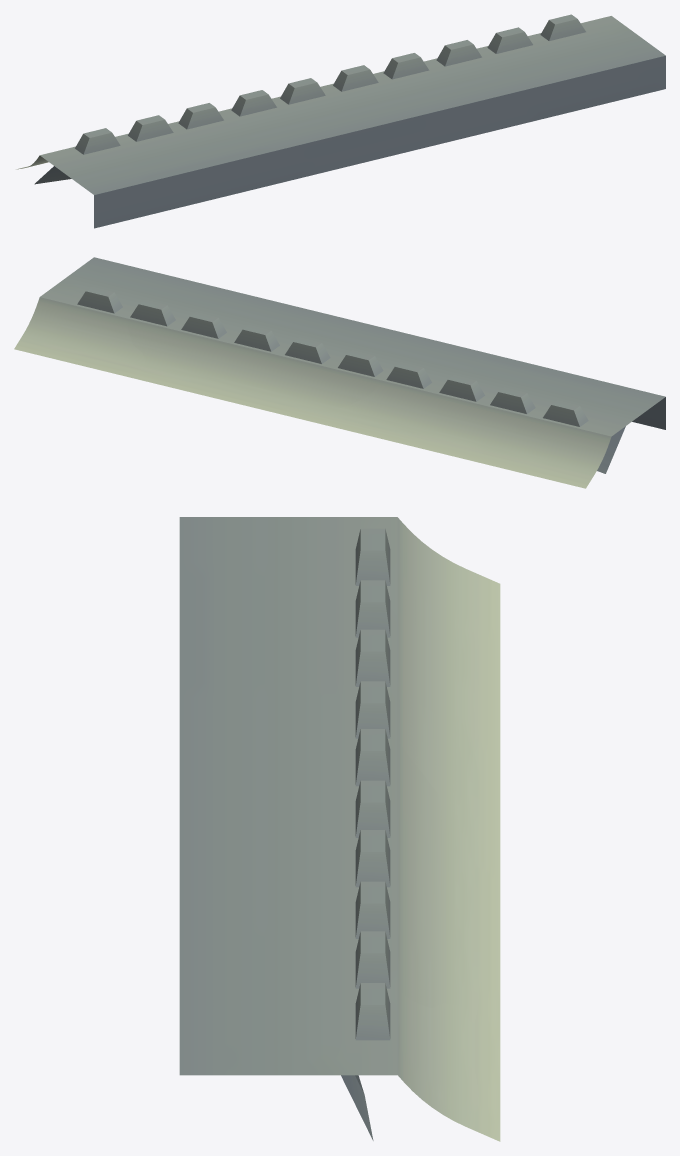
Rendered from Wall 2.fbx.
3 renders of one model, top to bottom at view 1: azimuth 30°, elevation 25°; view 2: azimuth 150°, elevation 25°; view 3: azimuth 270°, elevation 25°, orthographic. The views are drawn at different scales.
Visible parts, largest first — view 1: Wall0, Wall1, Wall2, Wall4; view 2: Wall0, Wall1, Wall2, Wall3; view 3: Wall0, Wall1, Wall2.
Part boxes in pixels (<box>): Wall0: <box>16,14,665,228</box>; Wall1: <box>19,16,664,194</box>; Wall2: <box>272,16,662,98</box>; Wall4: <box>222,58,648,117</box>; Wall0: <box>14,257,665,488</box>; Wall1: <box>15,258,664,487</box>; Wall2: <box>16,258,382,419</box>; Wall3: <box>597,426,625,473</box>; Wall0: <box>179,517,500,1141</box>; Wall1: <box>179,517,500,1141</box>; Wall2: <box>182,741,500,1138</box>.
Bounding box in the file's own units: 1089 × 86.32 × 264.
Materials: 2 (2 with a texture image).
